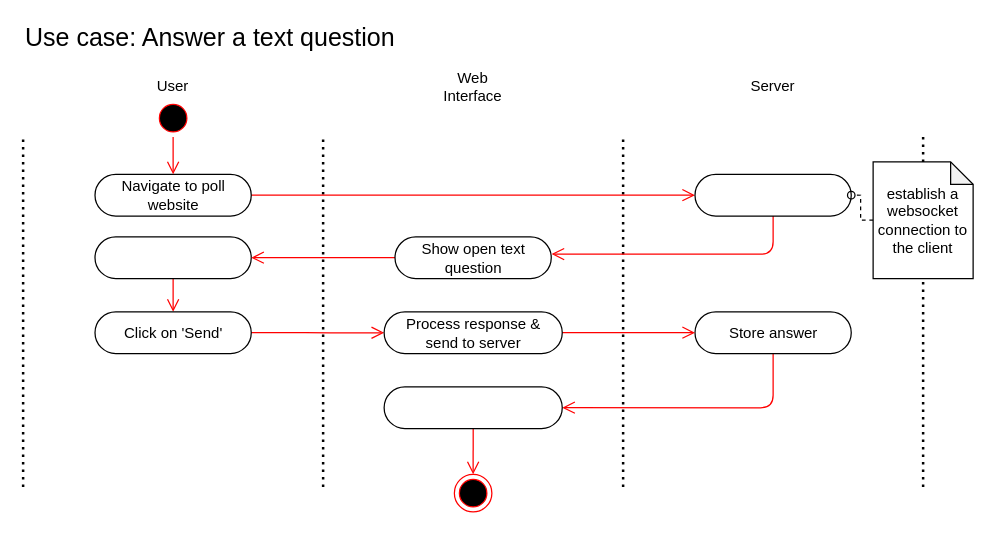
This 995x534 diagram has some shape labels left out. Here are the shapes that lost their labels. From the top down, the centre of each, then its label:
the point at 772,194: Serve poll website
the point at 172,257: Answer the question by entering text
the point at 472,407: Show response in the responses list
